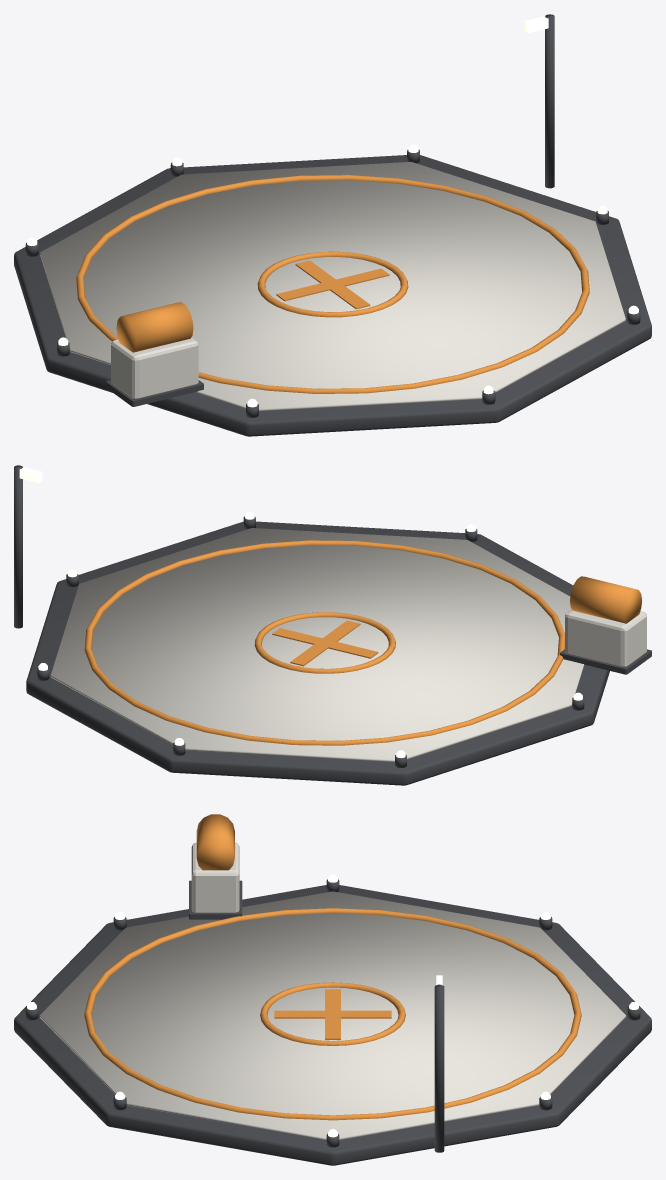
The model's file is pad.glb.
The picture shows the model from 3 angles, top to bottom: view 1: azimuth 30°, elevation 25°; view 2: azimuth 150°, elevation 25°; view 3: azimuth 270°, elevation 25°; orthographic projection. The views are drawn at different scales.
Visible parts, largest first — view 1: pad; view 2: pad; view 3: pad.
Boxes of the visible parts, box(x1,y1,x2,y2) form: pad: box(14, 14, 651, 436); pad: box(14, 465, 651, 785); pad: box(14, 814, 651, 1165).
Size of the model in its own units: 11.97 by 3.6 by 11.97.
